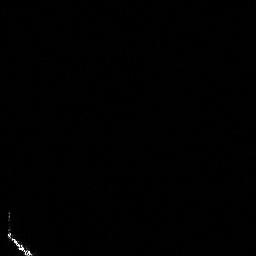ship: (6, 232, 33, 256)
